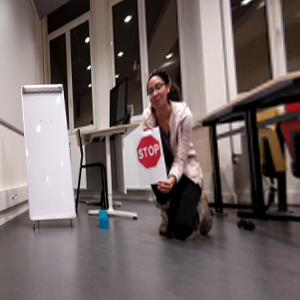stop: (137, 136, 161, 167)
